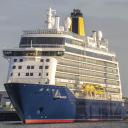cruises: (3, 5, 128, 128)
